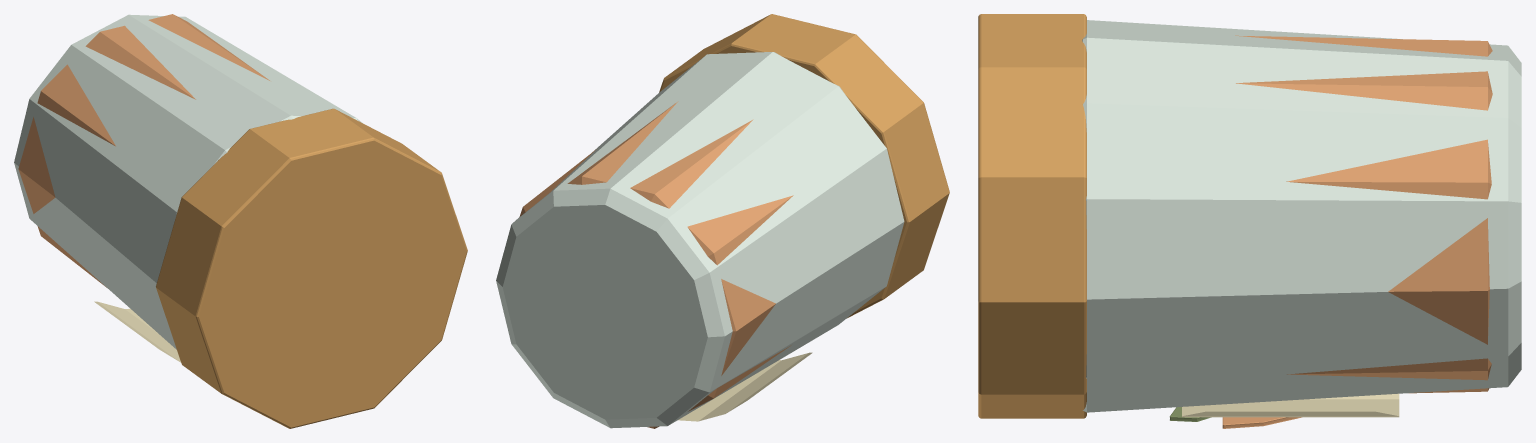
Rendered from baby_food.glb.
3 renders of one model, left to right at view 1: azimuth 30°, elevation 25°; view 2: azimuth 150°, elevation 25°; view 3: azimuth 270°, elevation 25°, orthographic. The views are drawn at different scales.
Visible parts, largest first — view 1: baby_food; view 2: baby_food; view 3: baby_food.
Part boxes in pixels (x1=…): baby_food: x1=14, y1=14, x2=467, y2=428; baby_food: x1=496, y1=14, x2=949, y2=428; baby_food: x1=978, y1=14, x2=1521, y2=428.
Bounding box in the file's own units: 0.06 × 0.0604 × 0.08.
